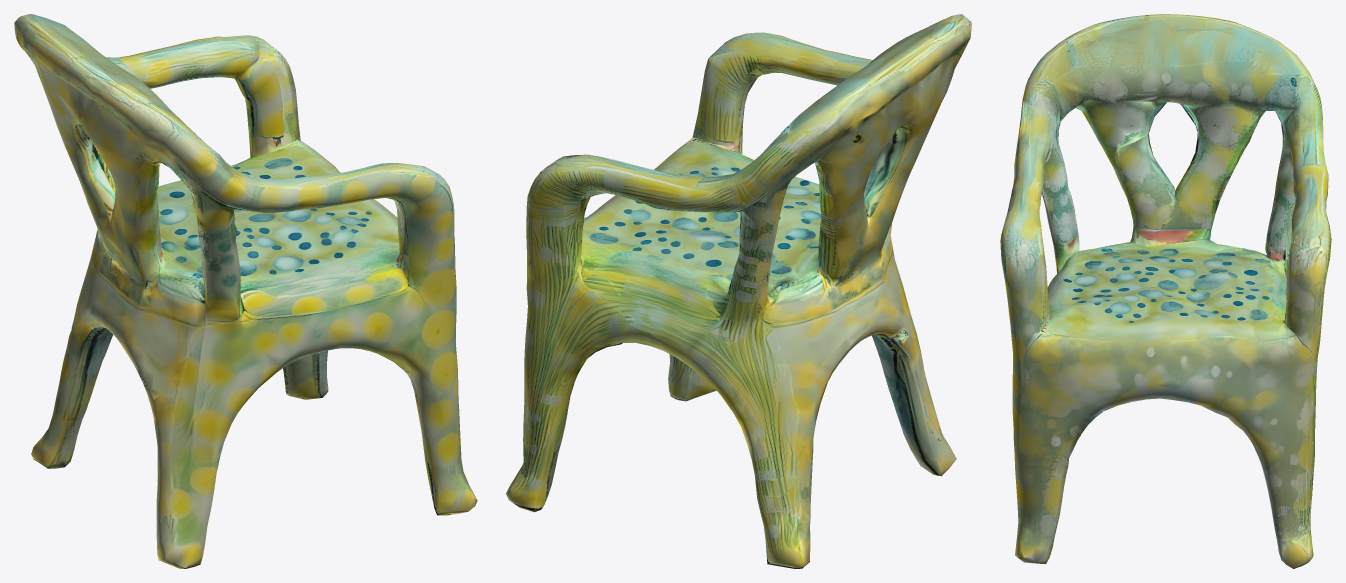
Rendered from model_v2_refine.glb.
3 renders of one model, left to right at view 1: azimuth 30°, elevation 25°; view 2: azimuth 150°, elevation 25°; view 3: azimuth 270°, elevation 25°, orthographic. The views are drawn at different scales.
Bounding box in the file's own units: 0.8989 × 1.2 × 0.8676.
Materials: 1 (1 with a texture image).
